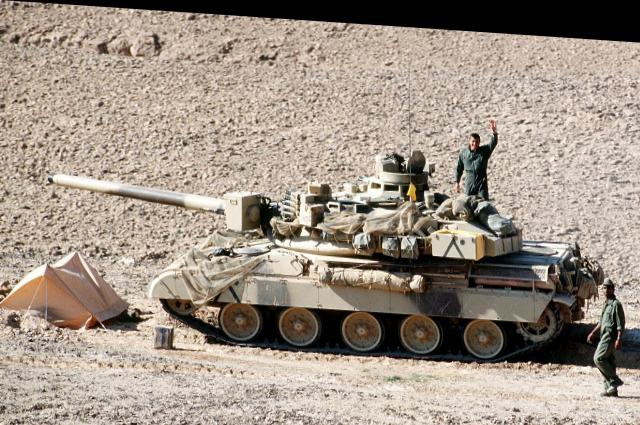other: (584, 258, 634, 393), (456, 112, 498, 220)
tank: (149, 105, 597, 371)
